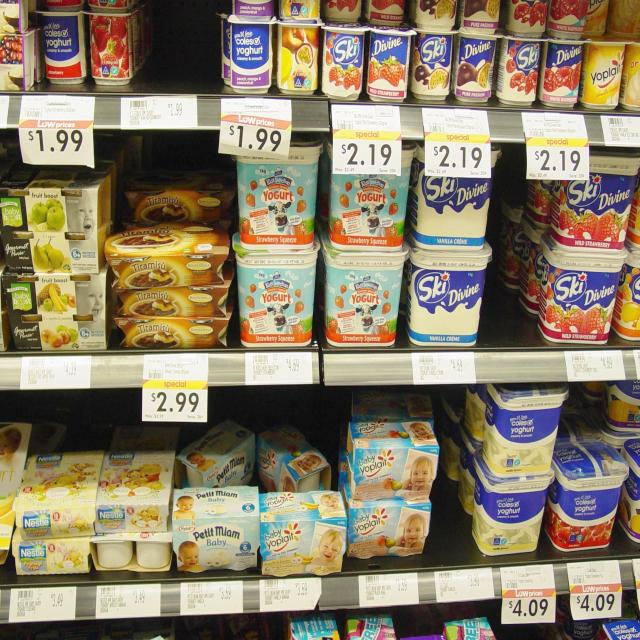empty_space: (131, 1, 219, 91), (210, 390, 334, 434), (110, 132, 226, 179), (38, 397, 142, 449), (490, 181, 522, 347), (436, 482, 458, 558)
